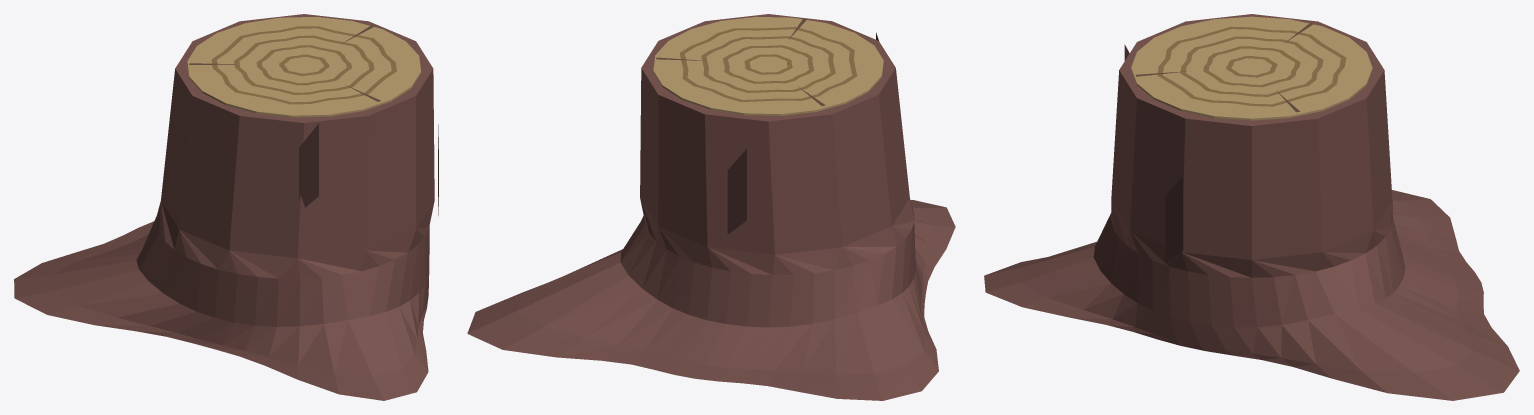
Rendered from cherry_wild_stump.glb.
The picture shows the model from 3 angles, left to right: view 1: azimuth 30°, elevation 25°; view 2: azimuth 150°, elevation 25°; view 3: azimuth 270°, elevation 25°; orthographic projection. The views are drawn at different scales.
Parts seen in each view (by area): view 1: stump, growth_rings; view 2: stump, growth_rings; view 3: stump, growth_rings.
Boxes of the visible parts, x1,y1,x2,y2 form: stump: (14,14,438,400); growth_rings: (187,17,421,117); stump: (467,14,955,400); growth_rings: (653,16,883,115); stump: (984,14,1519,400); growth_rings: (1131,16,1372,120).
Bounding box in the file's own units: 0.9434 × 0.488 × 1.01.
